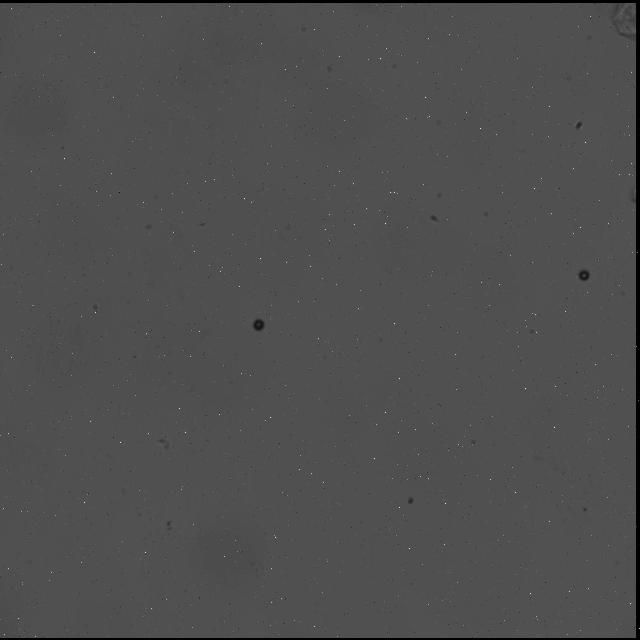microbeads: (251, 315, 267, 333), (578, 266, 592, 284)
